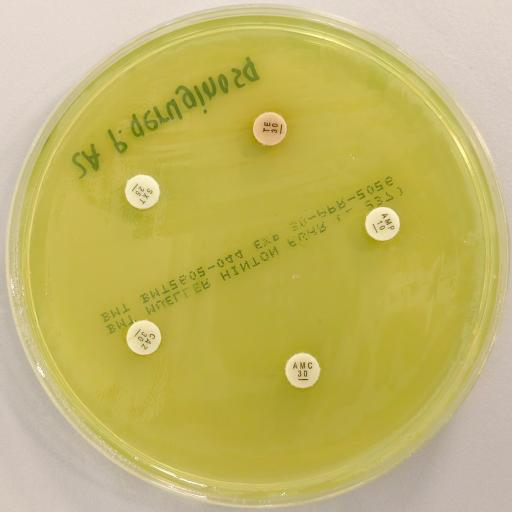disc: (124, 174, 160, 210), (126, 320, 162, 356), (285, 353, 321, 388), (364, 207, 400, 241), (252, 112, 286, 146)
